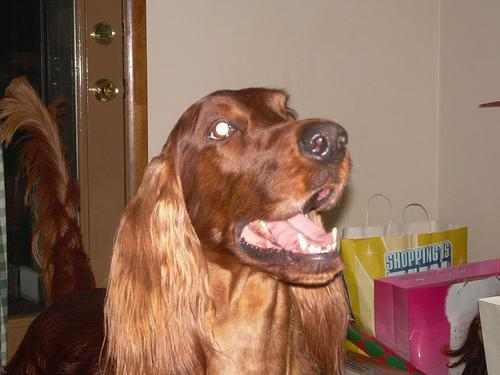Irish_setter: (0, 74, 355, 374)
